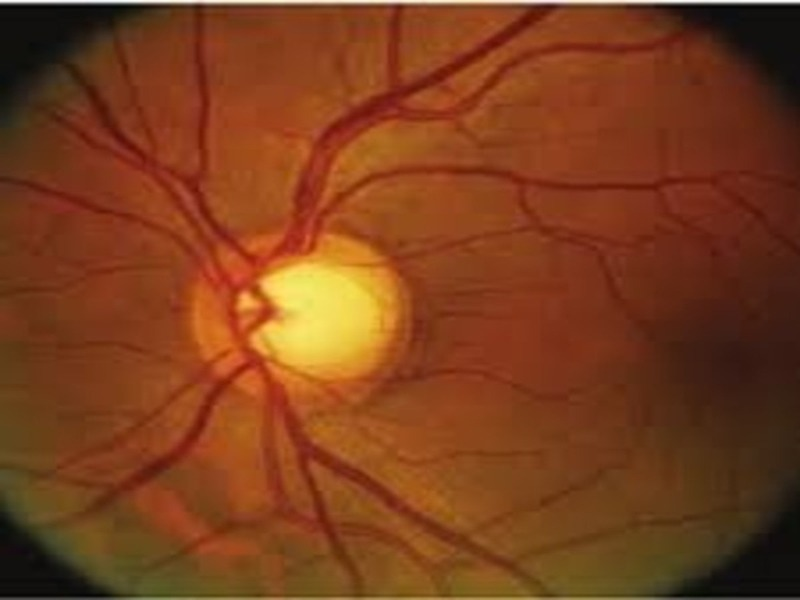Optic Cup: (240, 261, 380, 364)
Optic Disc: (191, 233, 425, 406)
